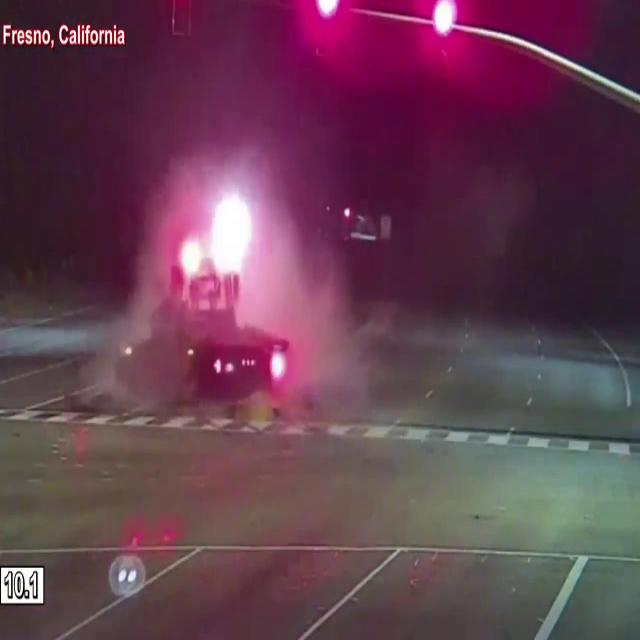accident: (85, 233, 296, 442)
